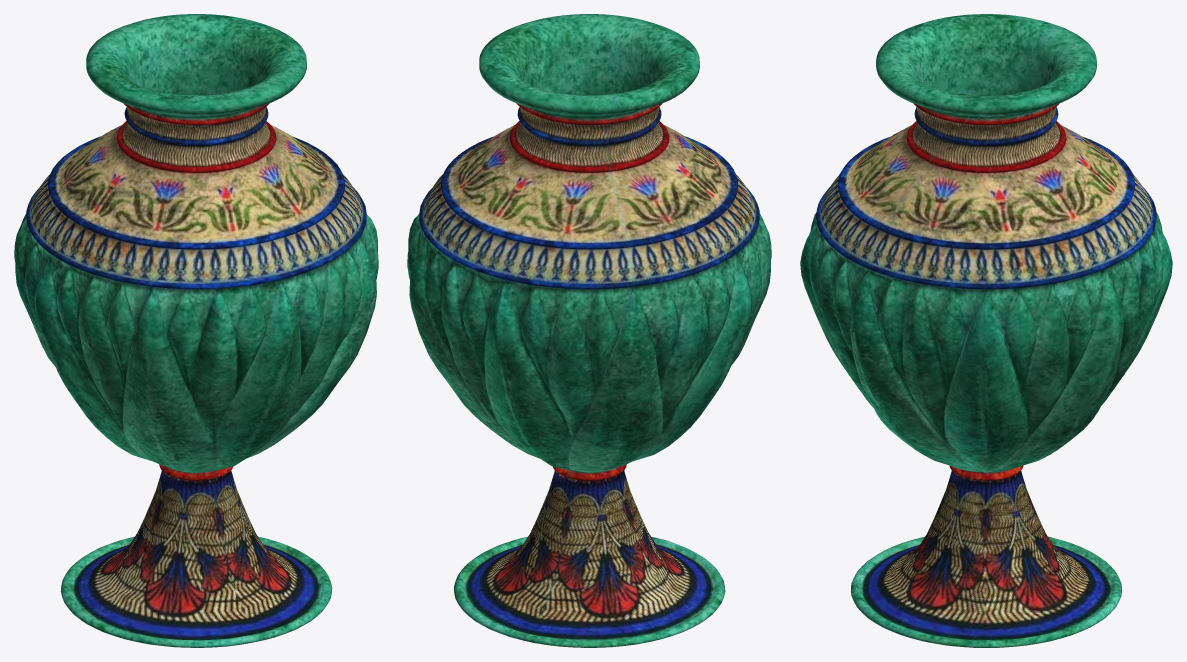
Rendered from 静物_瓶罐_egyptian_lotus_vase_20260324202619_opt.glb.
3 views of the same model, side by side, from view 1: azimuth 30°, elevation 25°; view 2: azimuth 150°, elevation 25°; view 3: azimuth 270°, elevation 25° (orthographic).
Parts seen in each view (by area): view 1: Egyptian_Vase_B03_RizomUV_Default_OBJ_0; view 2: Egyptian_Vase_B03_RizomUV_Default_OBJ_0; view 3: Egyptian_Vase_B03_RizomUV_Default_OBJ_0.
Boxes of the visible parts, left/top/right/bottom form: Egyptian_Vase_B03_RizomUV_Default_OBJ_0: left=14, top=14, right=378, bottom=647; Egyptian_Vase_B03_RizomUV_Default_OBJ_0: left=407, top=14, right=771, bottom=647; Egyptian_Vase_B03_RizomUV_Default_OBJ_0: left=800, top=14, right=1172, bottom=647.
Size of the model in its own units: 0.316 by 0.5 by 0.316.
1 material, 1 textured.
